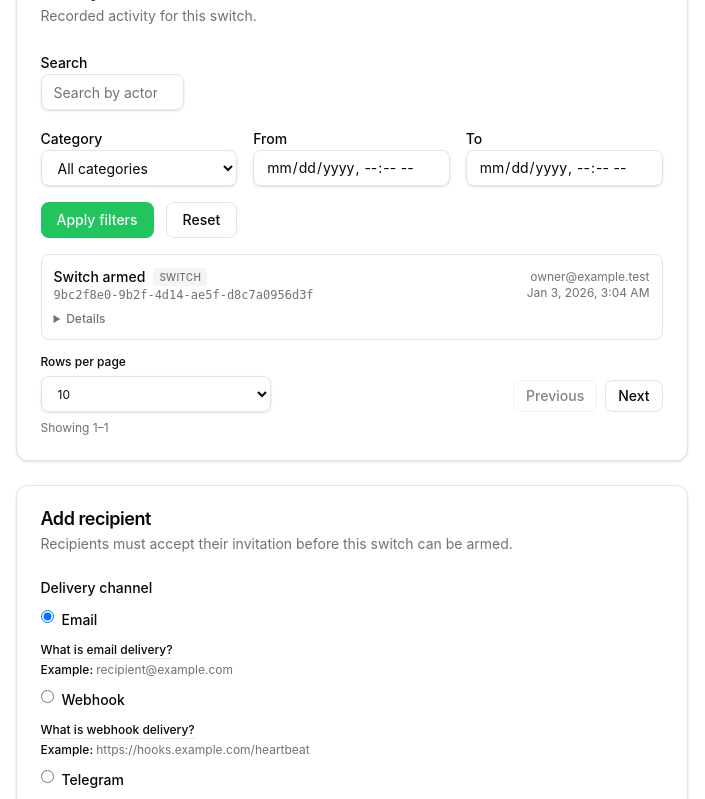
Test: SwitchDetailPage › loads, appends, and presents switch history without blocking lifecycle controls
The width and height of the screenshot is (705, 799).
(page scrolled)
Expected: the text "Switch armed" is shown, [54,267,145,287]
Expected: the text "9bc2f8e0-9b2f-4d14-ae5f-d8c7a0956d3f" is shown, [54,287,314,303]
Click the button "Next".
click(634, 396)  # box [605,380,662,412]
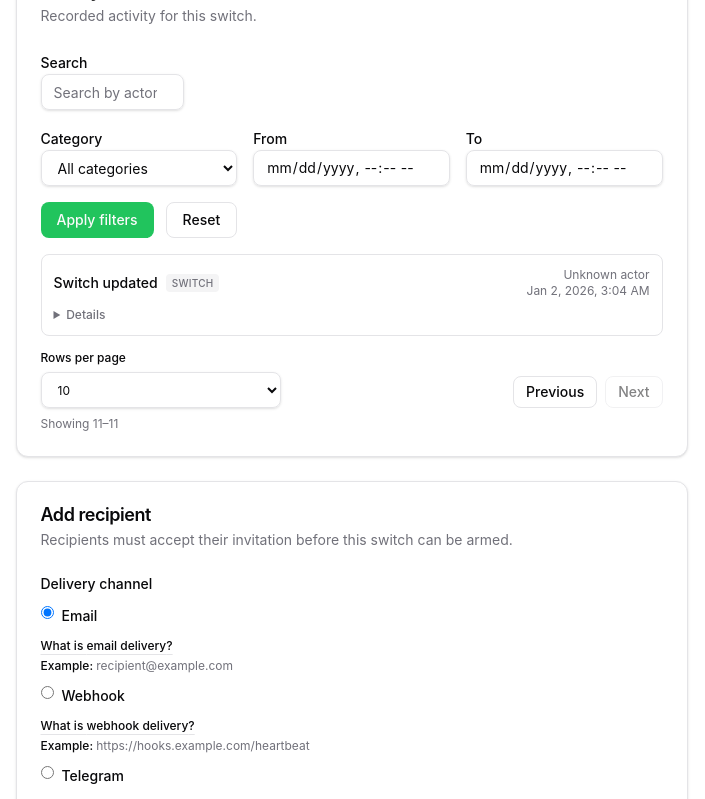
Now the text "Switch updated" is shown, box [54,273,158,293]
Now the text "Unknown actor" is shown, box [563,267,650,282]
Now the text "Switch armed" is gone
